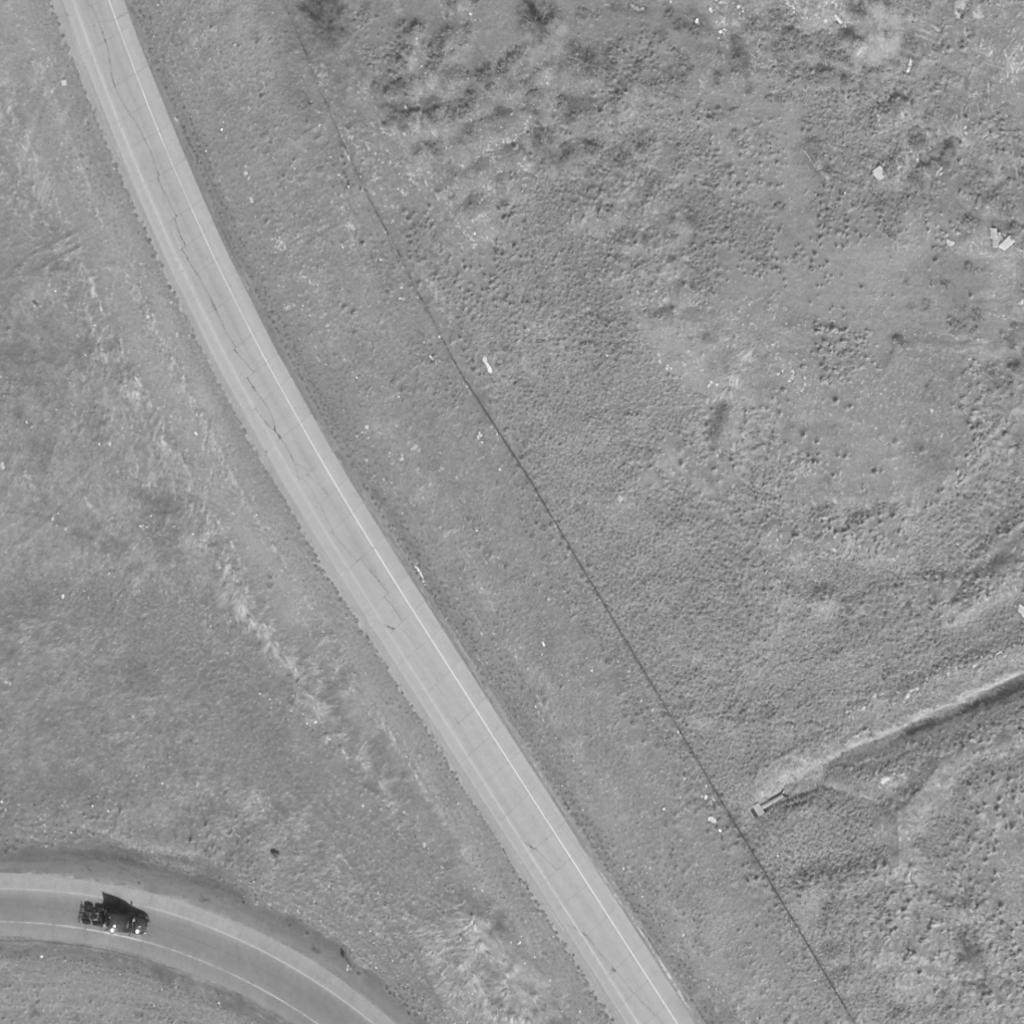vehicle: (77, 900, 151, 942)
